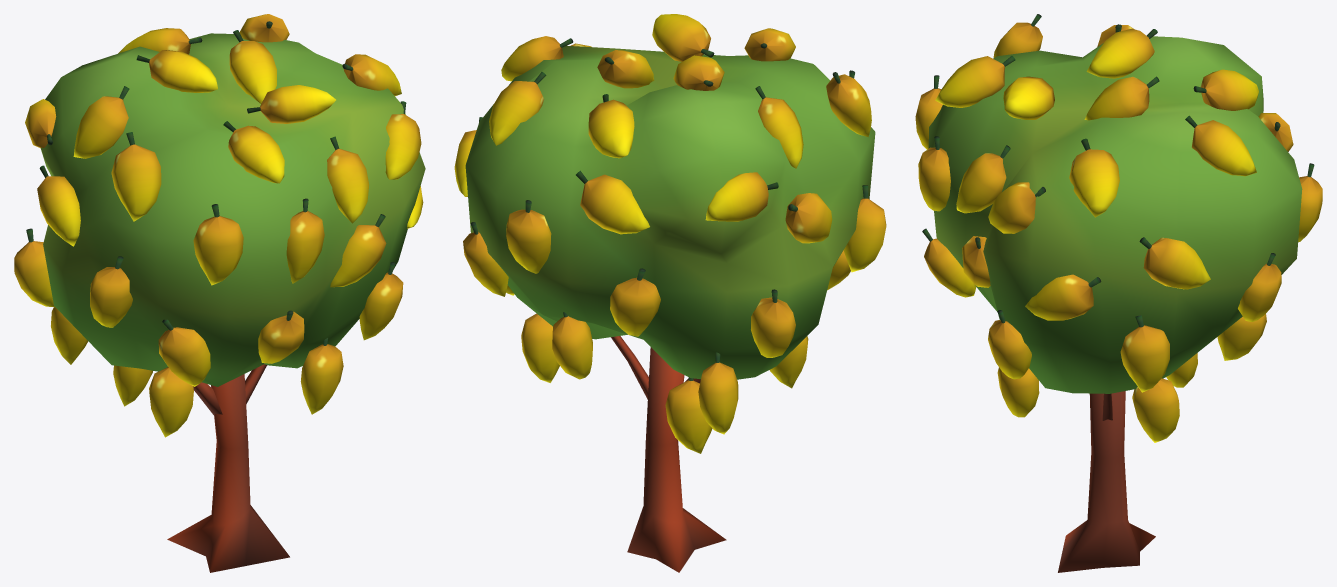
File: Mango_tree.FBX
3 renders of one model, left to right at view 1: azimuth 30°, elevation 25°; view 2: azimuth 150°, elevation 25°; view 3: azimuth 270°, elevation 25°, orthographic.
Parts seen in each view (by area): view 1: Mango_tree, Mango (×25); view 2: Mango_tree, Mango (×23); view 3: Mango_tree, Mango (×25).
Boxes of the visible parts, x1,y1,x2,y2 form: Mango_tree: (40, 33, 425, 572); Mango (×25): (14, 14, 421, 437); Mango_tree: (465, 45, 875, 572); Mango (×23): (454, 14, 886, 453); Mango_tree: (928, 36, 1302, 572); Mango (×25): (915, 14, 1322, 442).
Size of the model in its own units: 3.45 by 4.68 by 3.46.
